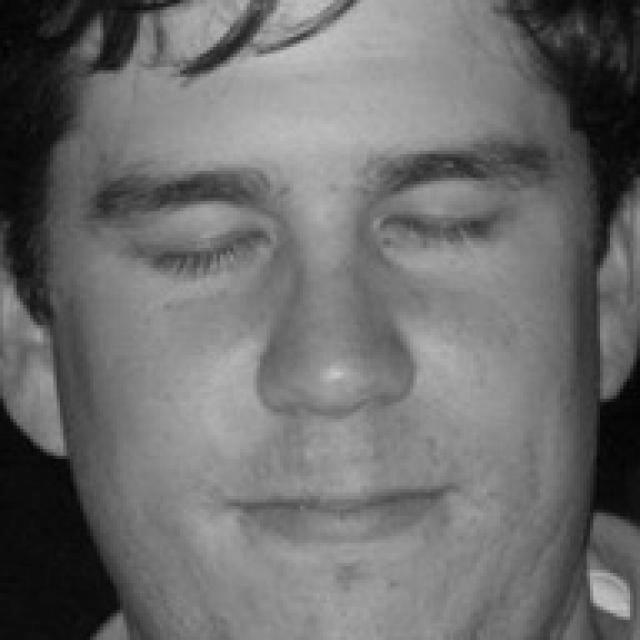real: (74, 36, 554, 626), (122, 180, 536, 279)
